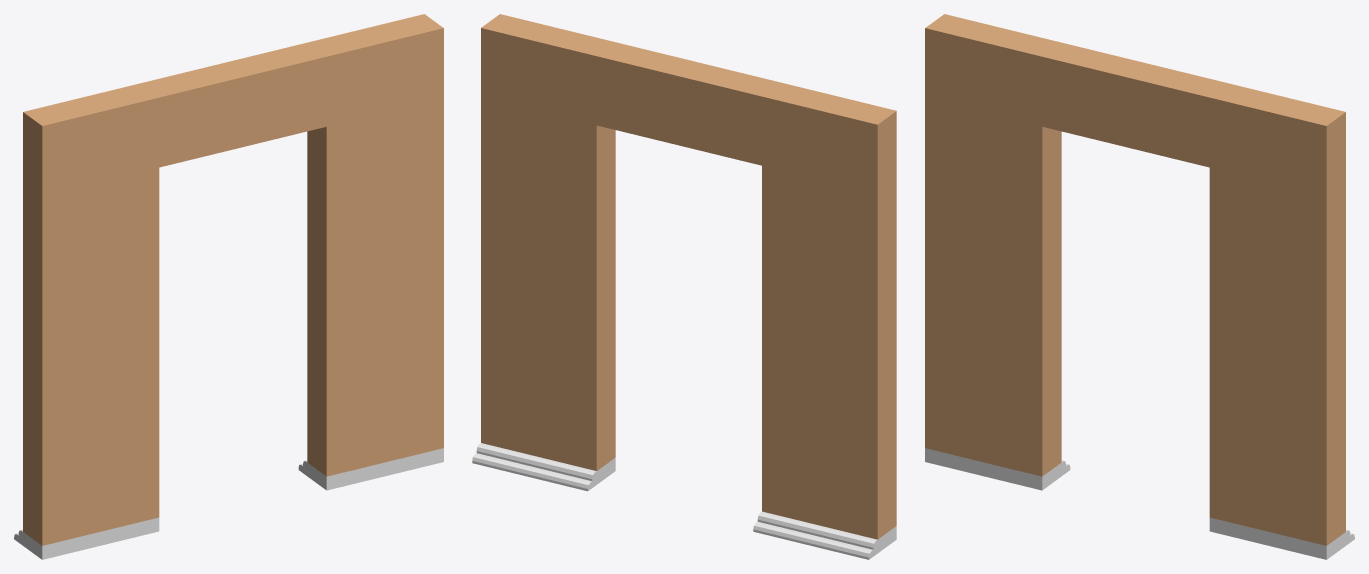
The model's file is DoorWall.fbx.
3 views of the same model, side by side, from view 1: azimuth 30°, elevation 25°; view 2: azimuth 150°, elevation 25°; view 3: azimuth 330°, elevation 25° (orthographic).
Visible parts, largest first — view 1: DoorWall, WallTrimCut; view 2: DoorWall, WallTrimCut; view 3: DoorWall, WallTrimCut.
Part boxes in pixels (left/top/right/bottom): DoorWall: left=23, top=14, right=443, bottom=545; WallTrimCut: left=14, top=448, right=443, bottom=559; DoorWall: left=481, top=14, right=896, bottom=539; WallTrimCut: left=472, top=443, right=896, bottom=559; DoorWall: left=925, top=14, right=1345, bottom=545; WallTrimCut: left=925, top=448, right=1354, bottom=559.
Bounding box in the file's own units: 6 × 6.2 × 0.7296.
